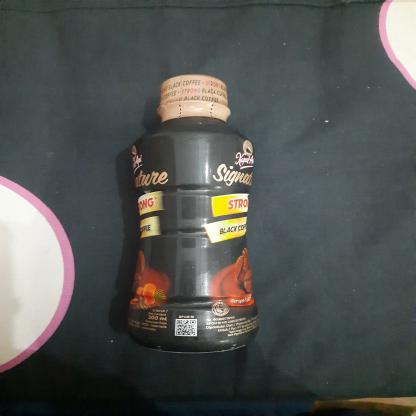bottle: (119, 70, 263, 356)
